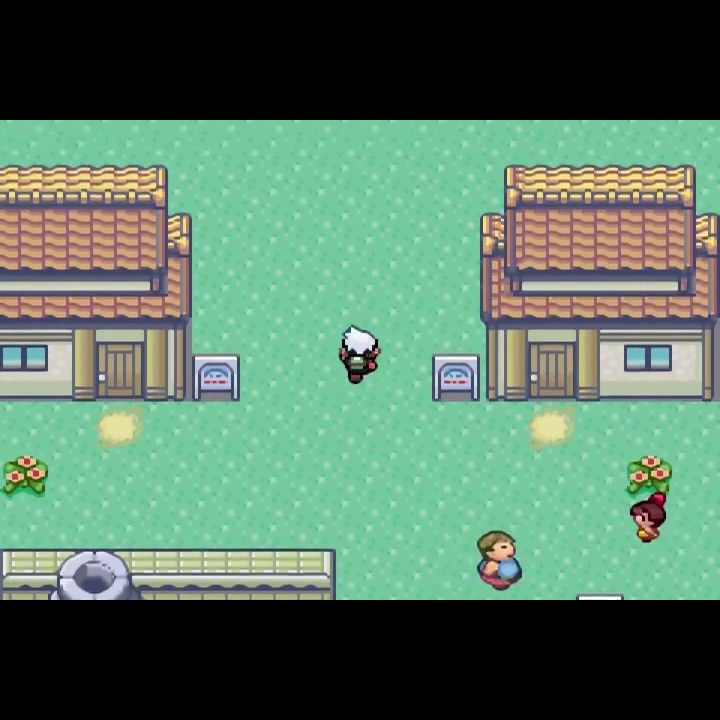house: (479, 162, 720, 404), (1, 162, 194, 408), (1, 546, 338, 600)
npc: (475, 524, 524, 594), (333, 322, 383, 386), (624, 489, 670, 548)
